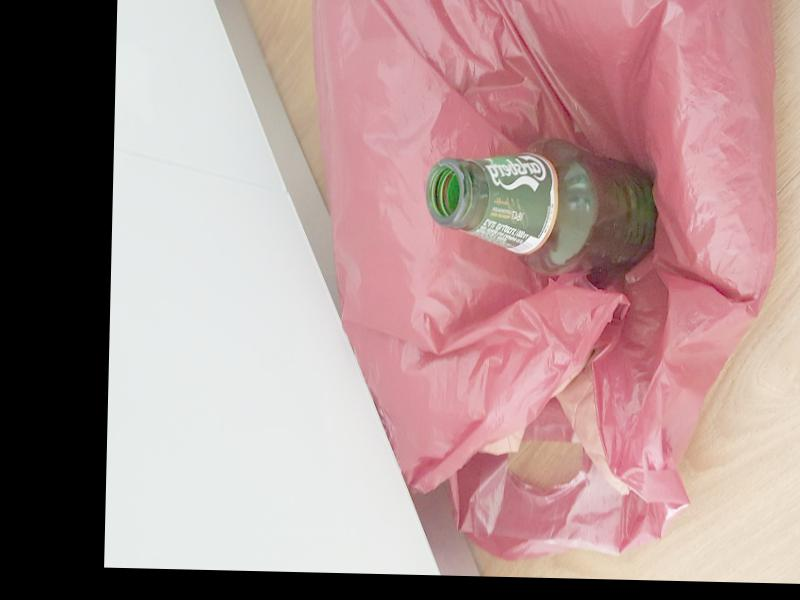Beer: (426, 137, 660, 277)
